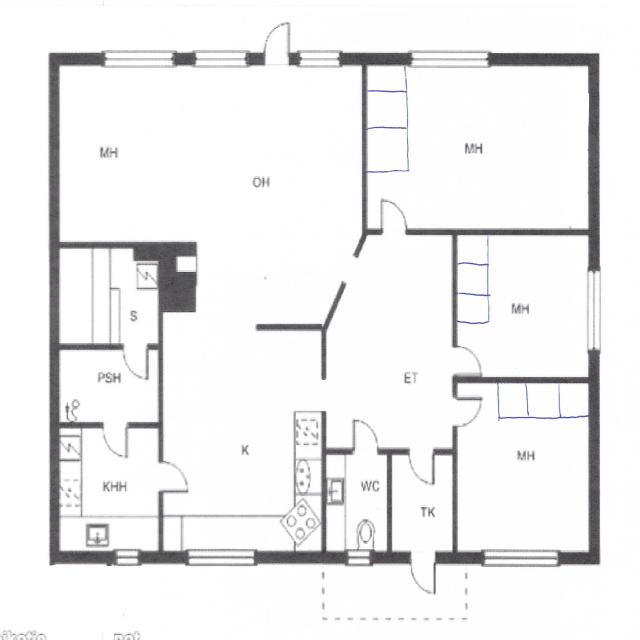door: (410, 552, 436, 594), (264, 24, 289, 65), (352, 417, 378, 454), (102, 421, 128, 458), (157, 461, 188, 492), (123, 343, 148, 381), (382, 199, 407, 236), (452, 396, 482, 426), (409, 448, 433, 484), (453, 346, 480, 373)
